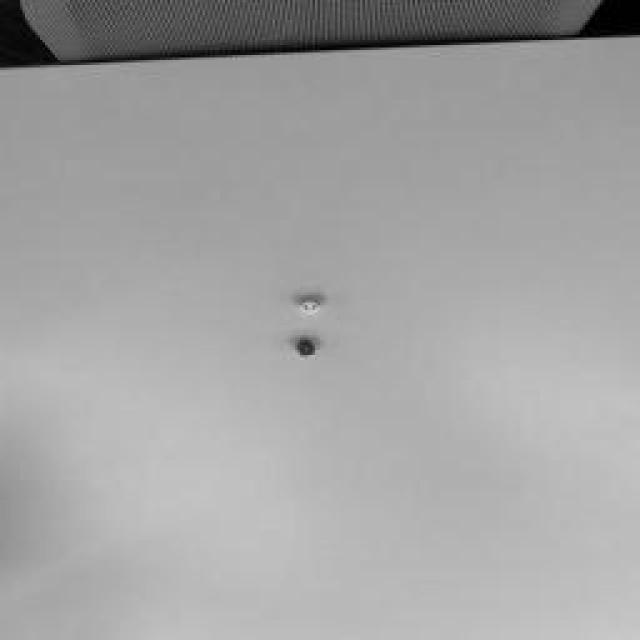dice_1: (298, 344, 314, 356)
dice_2: (301, 301, 319, 314)
